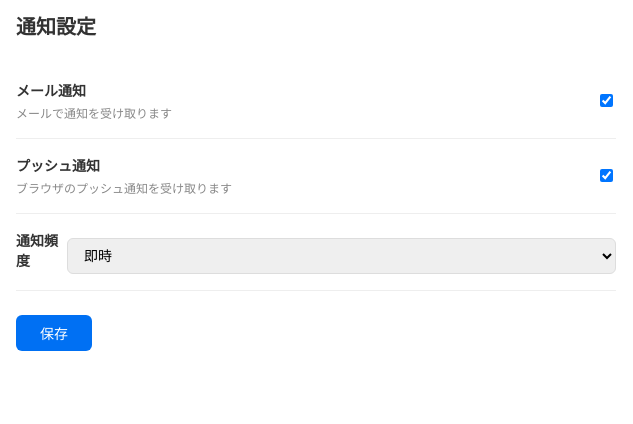
NotificationSettingsForm › 設定変更時に成功メッセージが消える（セレクト）
The width and height of the screenshot is (633, 424).
Submit the form from the button "保存", box [16,315,92,351]
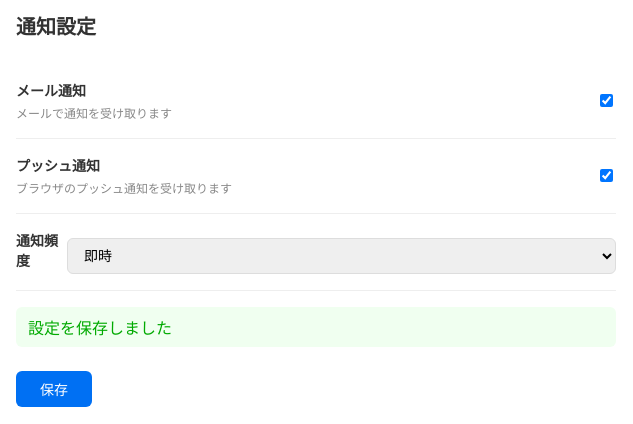
Now the text "設定を保存しました" is shown, box [16,307,616,347]
Select "日次ダイジェスト" in the dropdown labelled "通知頻度" at [342, 256], box [67,238,616,274]
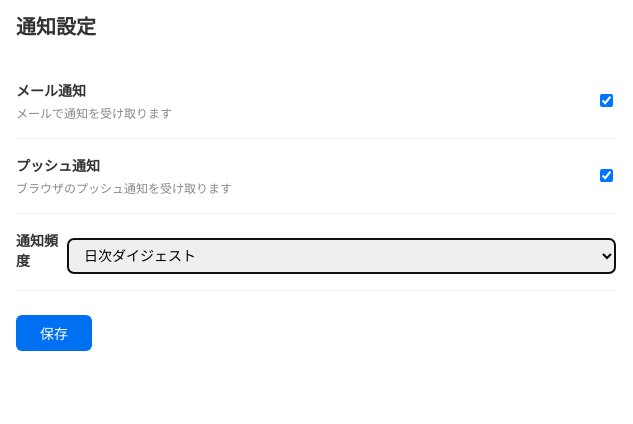
Now the text "設定を保存しました" is gone
